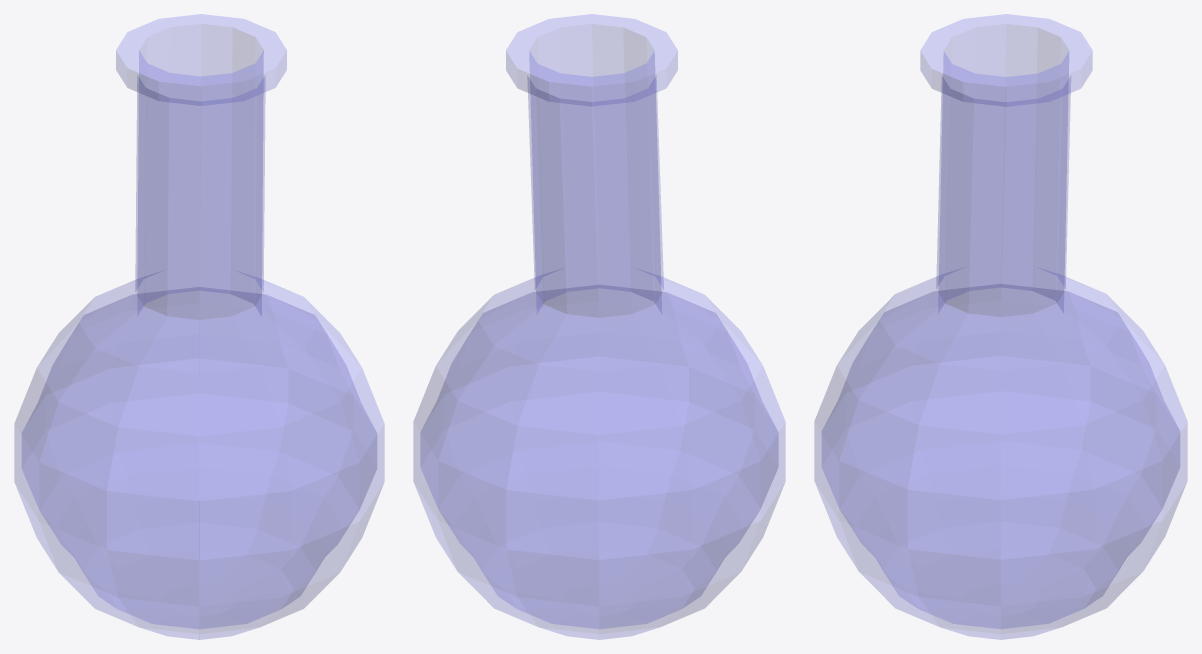
Rendered from Beaker.glb.
3 views of the same model, side by side, from view 1: azimuth 30°, elevation 25°; view 2: azimuth 150°, elevation 25°; view 3: azimuth 270°, elevation 25° (orthographic).
Parts seen in each view (by area): view 1: node_MeshObject-601371648-PolyGlass24; view 2: node_MeshObject-601371648-PolyGlass24; view 3: node_MeshObject-601371648-PolyGlass24.
Boxes of the visible parts, left/top/right/bottom form: node_MeshObject-601371648-PolyGlass24: left=14, top=14, right=384, bottom=639; node_MeshObject-601371648-PolyGlass24: left=413, top=14, right=785, bottom=639; node_MeshObject-601371648-PolyGlass24: left=814, top=14, right=1187, bottom=639.
Size of the model in its own units: 1.35 by 2.25 by 1.35.
